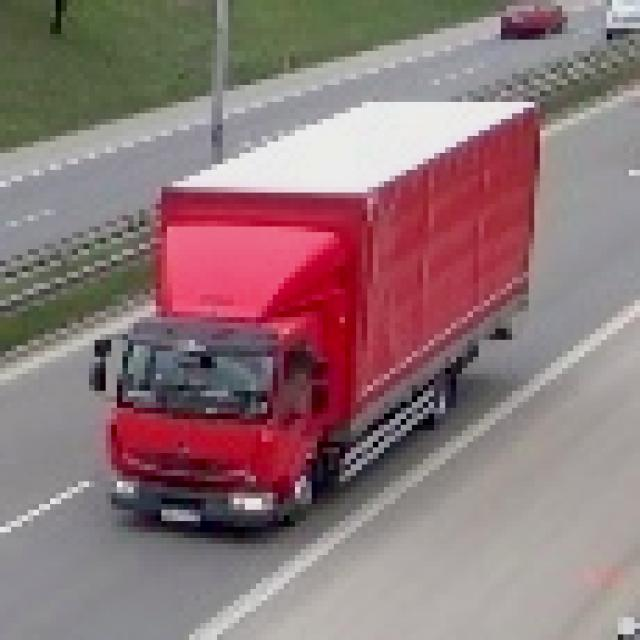truck: (90, 97, 541, 528)
